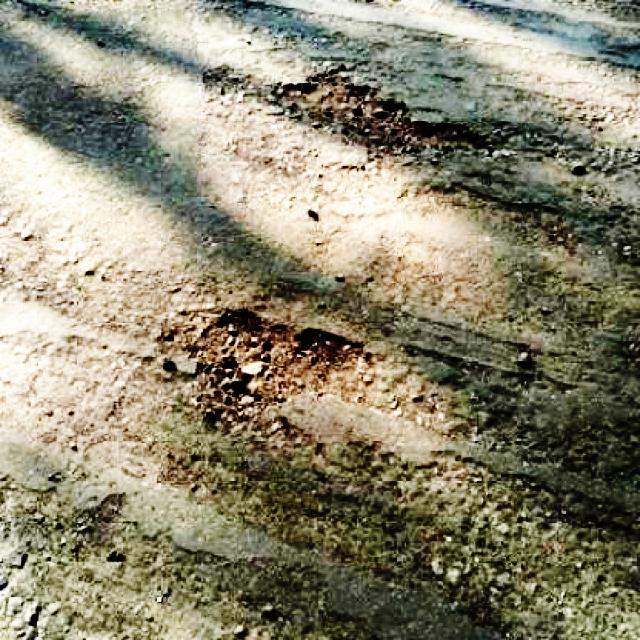pothole: (162, 297, 389, 443), (268, 63, 495, 168)
